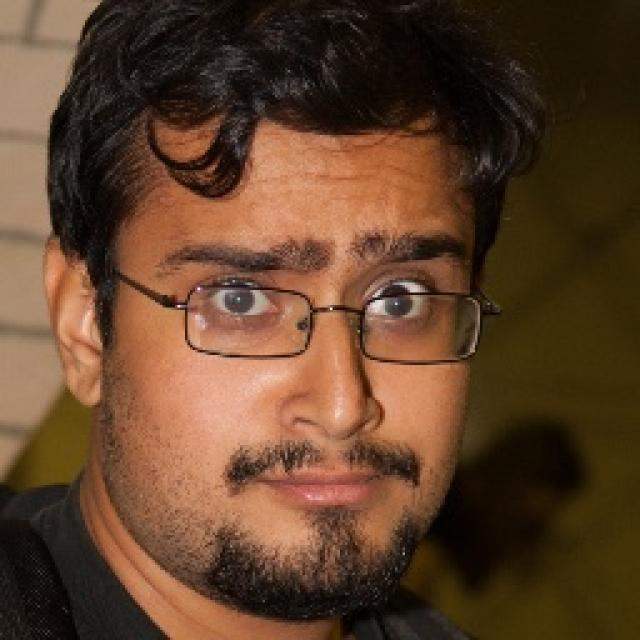earlobe: (65, 348, 105, 410)
eye: (204, 287, 275, 319), (367, 286, 432, 319)
nose: (287, 414, 369, 466)
wholeear: (40, 230, 105, 410)
